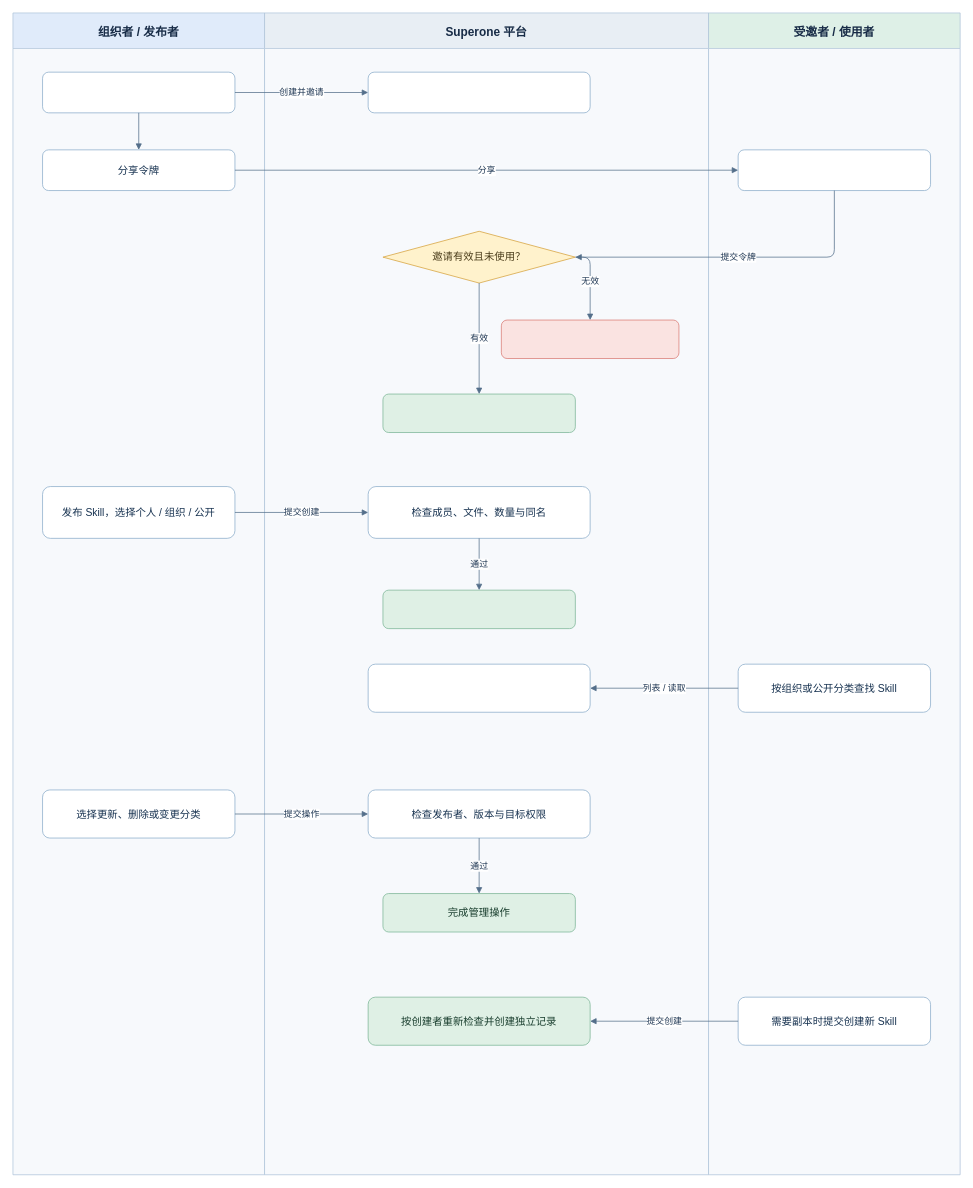
This 973x1188 diagram has some shape labels left out. The shapes that lost their labels are listed below. From the top down, each one's centre as x and y in pixels, then its label:
(138,92): 创建组织
(478,92): 生成 7 天一次性邀请令牌
(834,170): 接收令牌并确认加入
(590,339): 加入失败
(478,413): 加入组织
(478,609): 创建成功，记录发布者
(478,687): 按权限展示列表并提供文件
